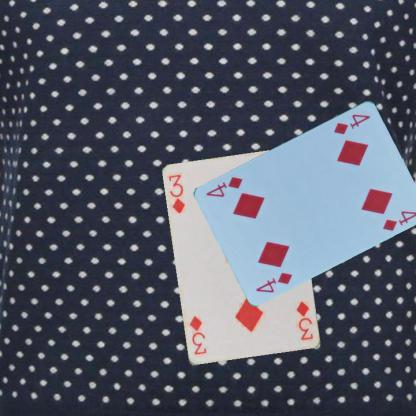3d: (293, 298, 315, 344), (166, 172, 186, 215)
4d: (330, 111, 372, 136), (253, 269, 294, 294)
